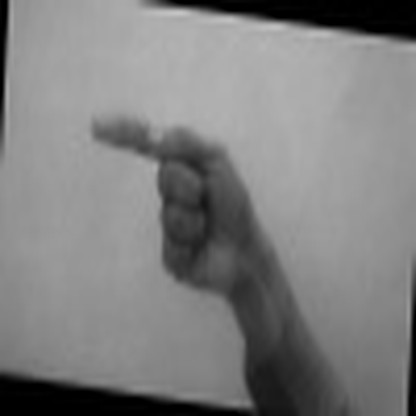g: (84, 105, 266, 290)
